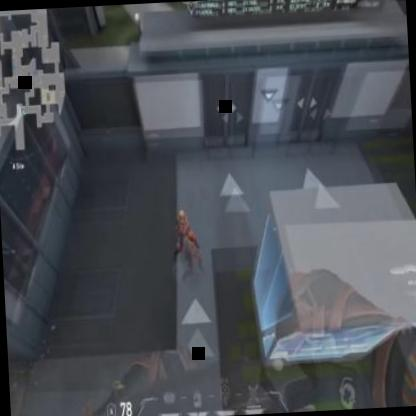enemy: (171, 205, 200, 258)
enemy_head: (178, 208, 186, 222)
